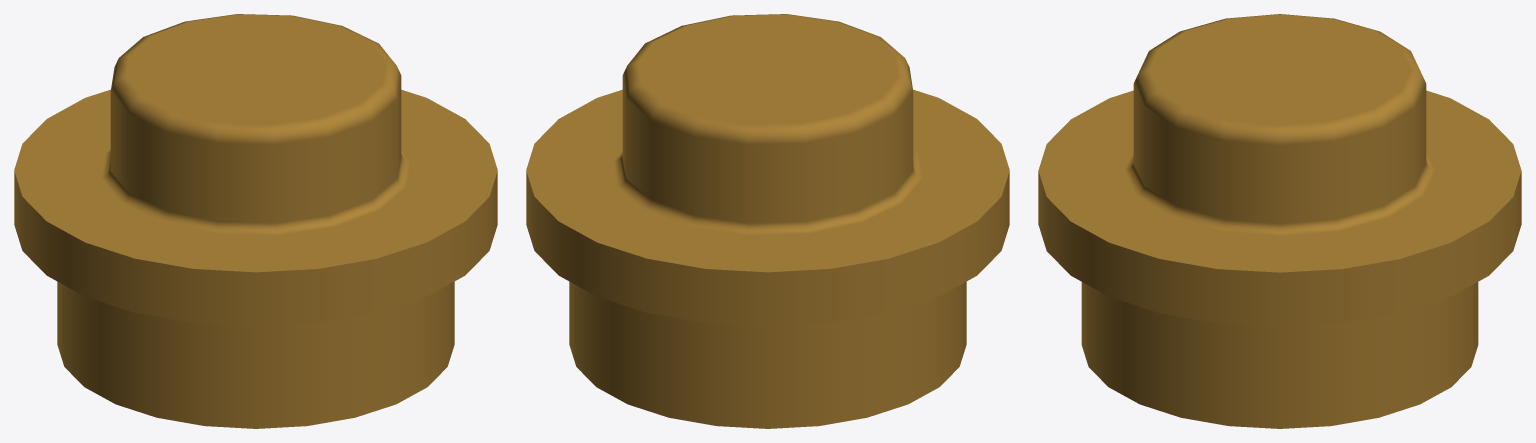
File: Bullet.dae
The picture shows the model from 3 angles, left to right: view 1: azimuth 30°, elevation 25°; view 2: azimuth 150°, elevation 25°; view 3: azimuth 270°, elevation 25°; orthographic projection.
Parts seen in each view (by area): view 1: Part.0; view 2: Part.0; view 3: Part.0.
Boxes of the visible parts, bbox=[...] form: Part.0: bbox=[14, 14, 497, 428]; Part.0: bbox=[526, 14, 1009, 428]; Part.0: bbox=[1038, 14, 1521, 428].
Bounding box in the file's own units: 7.92 × 4.98 × 7.92.
